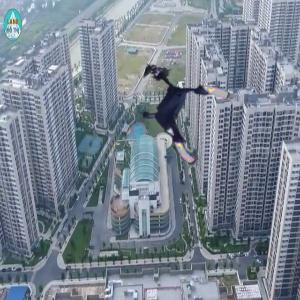drone: (136, 73, 225, 162)
